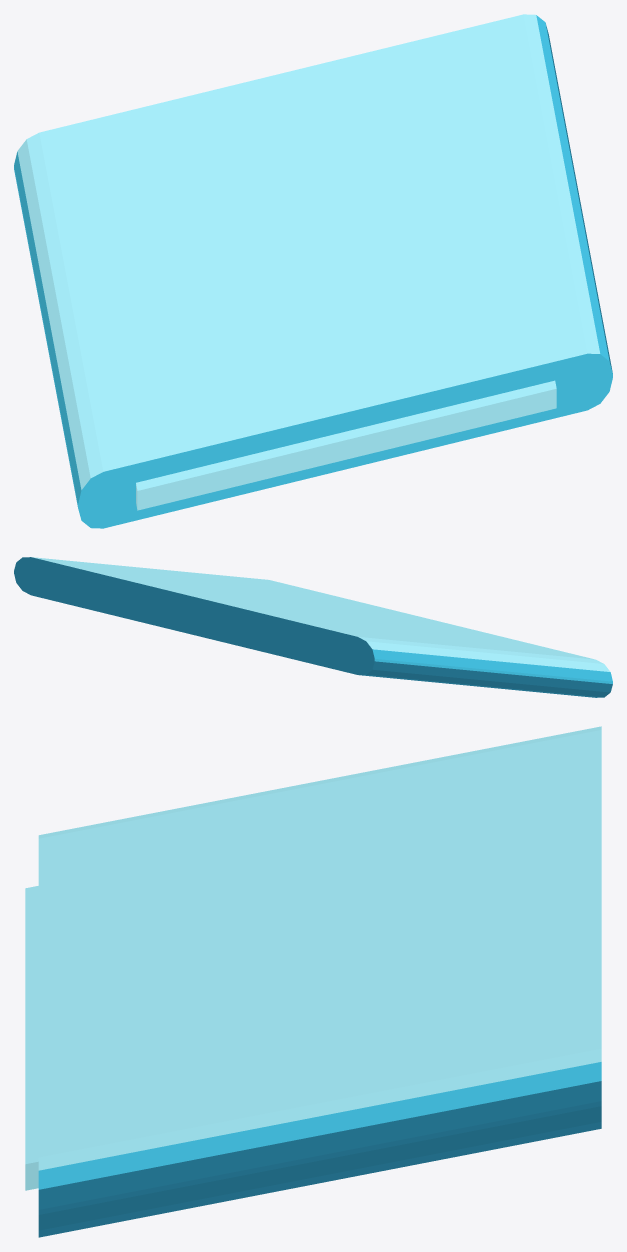
The model's file is Plate_Pad.gltf.
3 views of the same model, one above another, from view 1: azimuth 30°, elevation 25°; view 2: azimuth 150°, elevation 25°; view 3: azimuth 270°, elevation 25° (orthographic). The views are drawn at different scales.
Parts seen in each view (by area): view 1: Plate_Pad_baked; view 2: Plate_Pad_baked; view 3: Plate_Pad_baked.
Part boxes in pixels (bbox=[...]): Plate_Pad_baked: bbox=[14, 14, 612, 528]; Plate_Pad_baked: bbox=[14, 557, 612, 697]; Plate_Pad_baked: bbox=[25, 726, 601, 1237].
Bounding box in the file's own units: 0.94 × 0.275 × 0.512.
